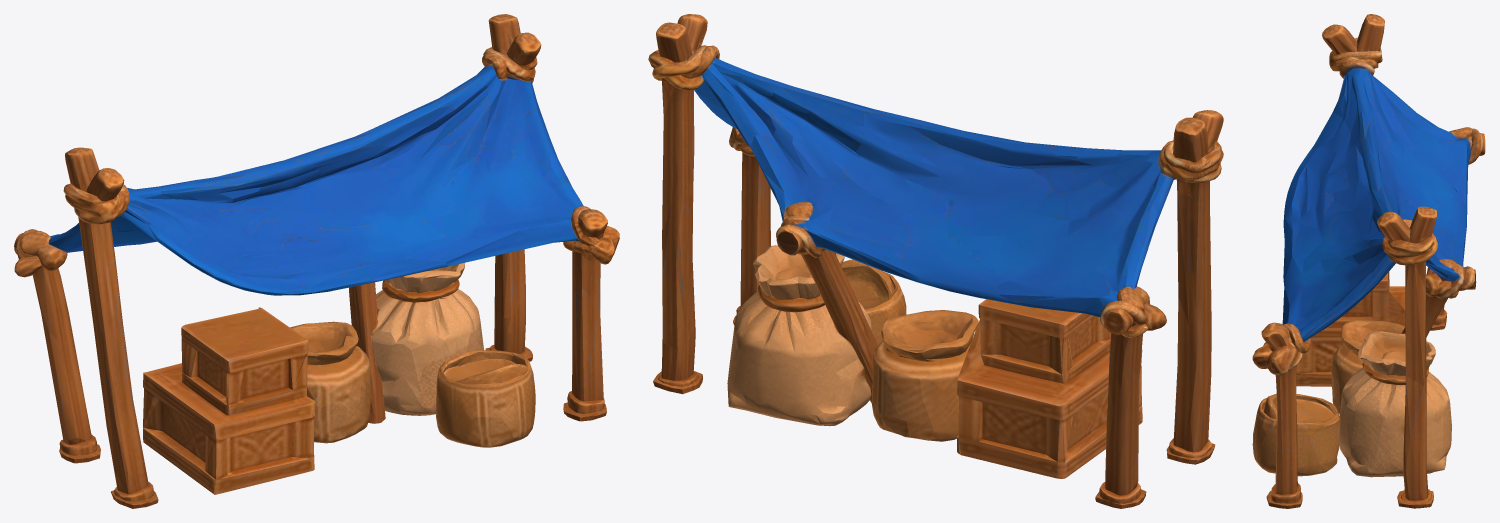
The model's file is blue_tent_stall.glb.
The picture shows the model from 3 angles, left to right: view 1: azimuth 30°, elevation 25°; view 2: azimuth 150°, elevation 25°; view 3: azimuth 270°, elevation 25°; orthographic projection. The views are drawn at different scales.
Visible parts, largest first — view 1: output_unwrapped; view 2: output_unwrapped; view 3: output_unwrapped.
Part boxes in pixels (x1=…): output_unwrapped: x1=14, y1=14, x2=619, y2=508; output_unwrapped: x1=648, y1=14, x2=1223, y2=508; output_unwrapped: x1=1252, y1=14, x2=1485, y2=508.
Size of what is drawn, in the model's own units: 1.56 by 1 by 0.7219.
1 material, 1 textured.
